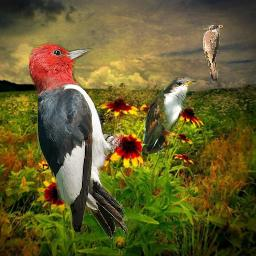Cuckoo: (141, 77, 196, 154), (203, 25, 223, 81)
Woodpecker: (29, 41, 130, 239)
